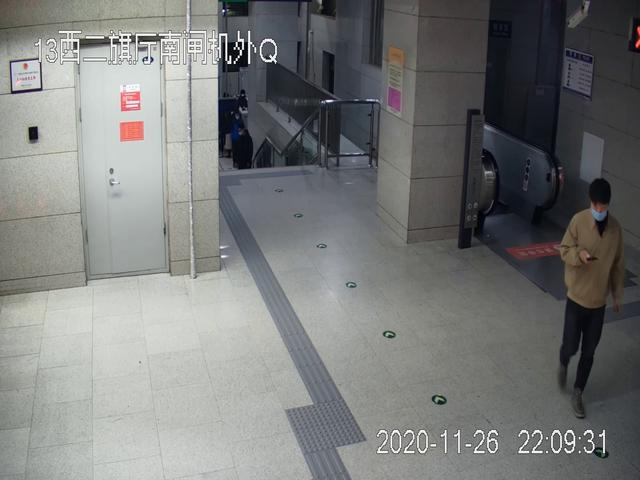person: (557, 178, 623, 420)
